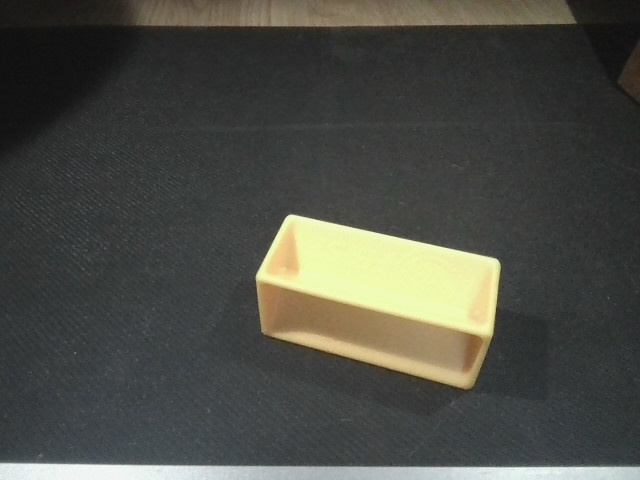YellowSample: (253, 210, 501, 392)
